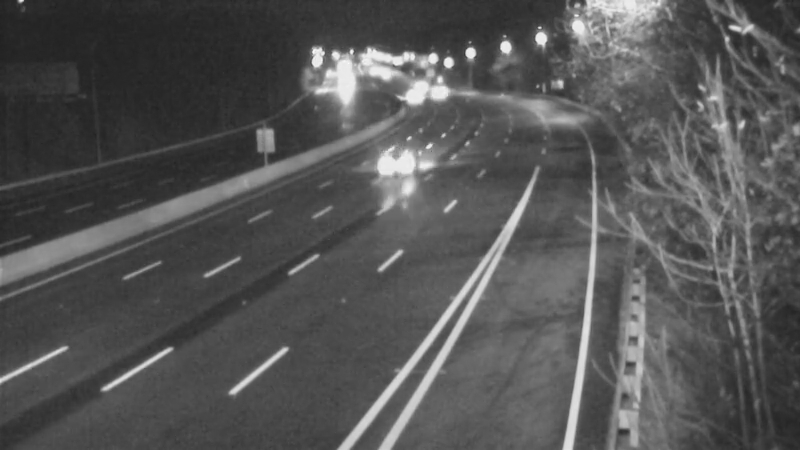vehicle: (361, 124, 441, 204), (359, 49, 409, 99), (398, 61, 448, 111), (410, 67, 460, 117), (386, 70, 436, 120), (320, 61, 370, 111)
